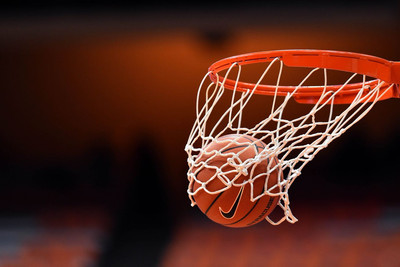MadeBasket: (186, 49, 392, 228)
